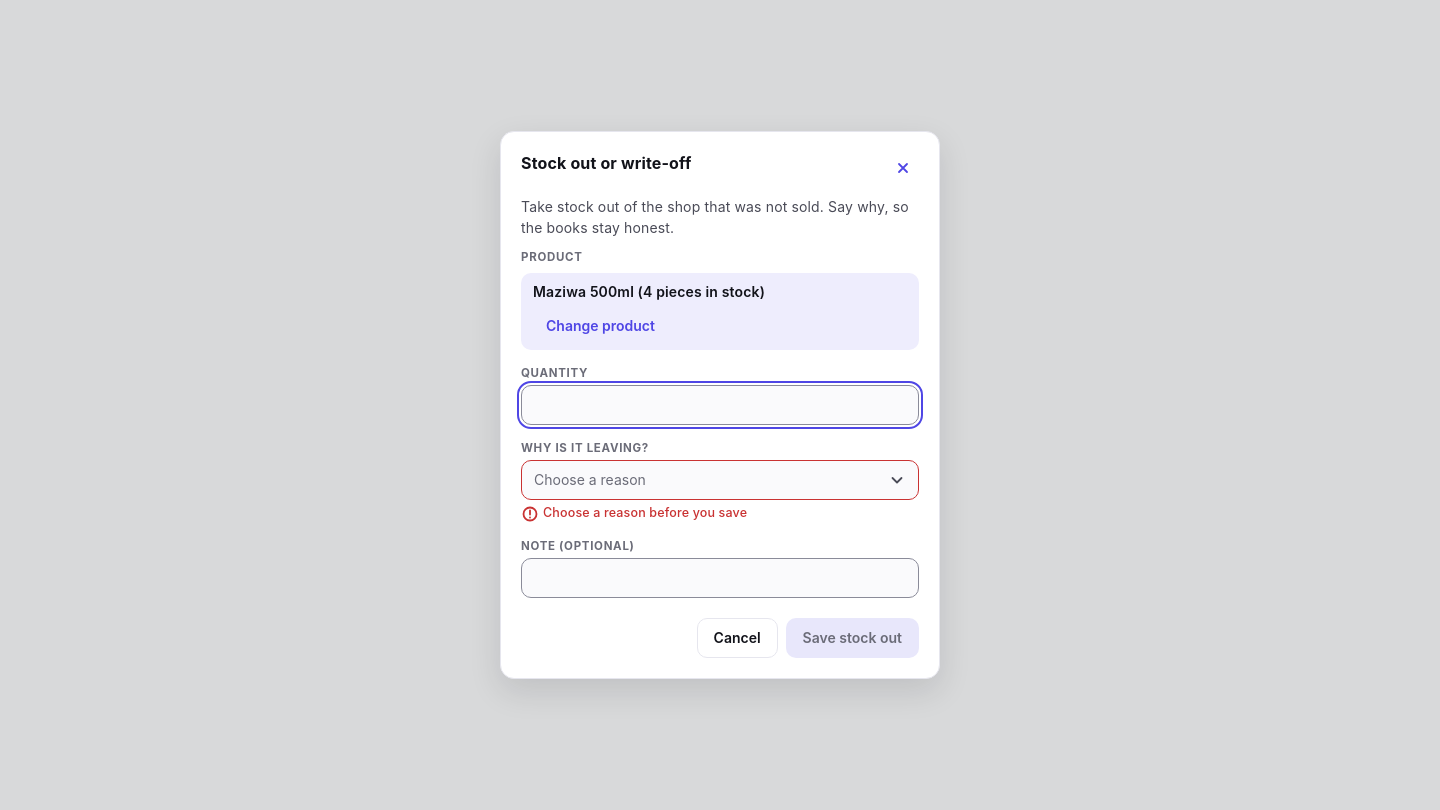
Test case: Stock out or write-off › the Save button is off and the reason box shows its error beside it until a reason is given
Expected: the dialog is shown, 500,131 -> 940,679
Type "1" into the field labelled "Quantity" at (720, 405), box 522,386 -> 918,424
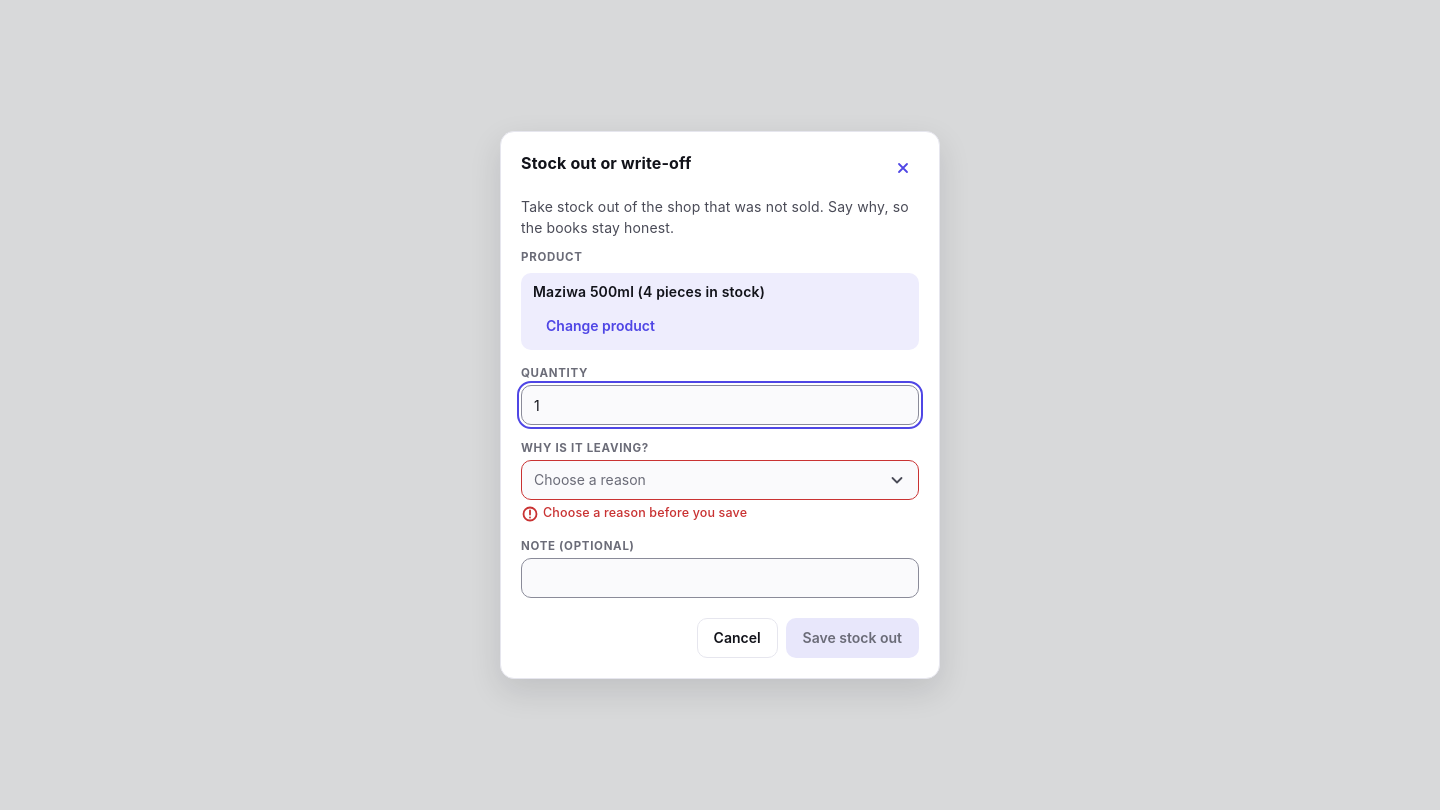
Expected: the button "Save stock out" is disabled, 786,618 -> 919,658
Click the dropdown named "Why is it leaving" at (590, 480), box 521,460 -> 919,500
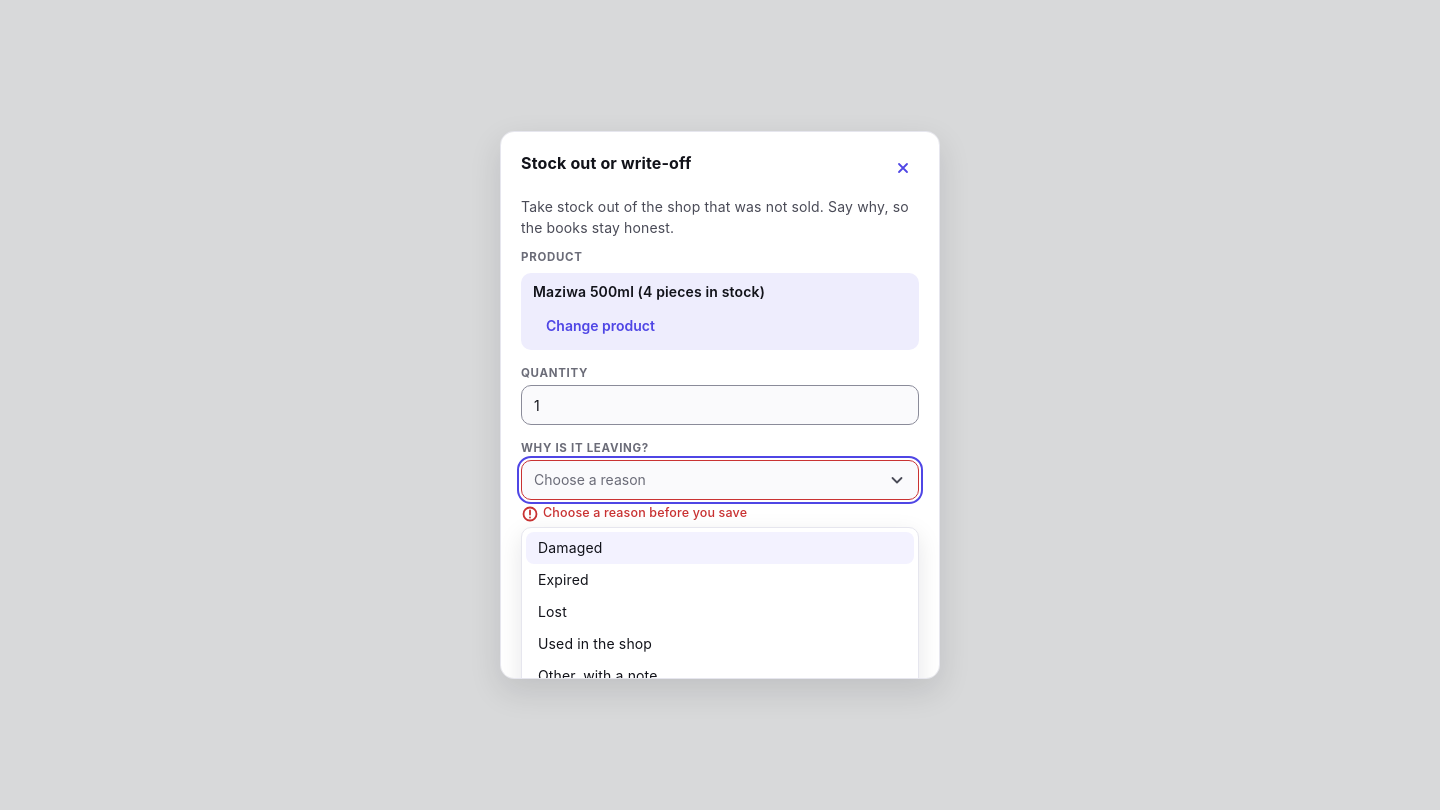
Click the option "Damaged" at (570, 548), box 526,532 -> 914,564
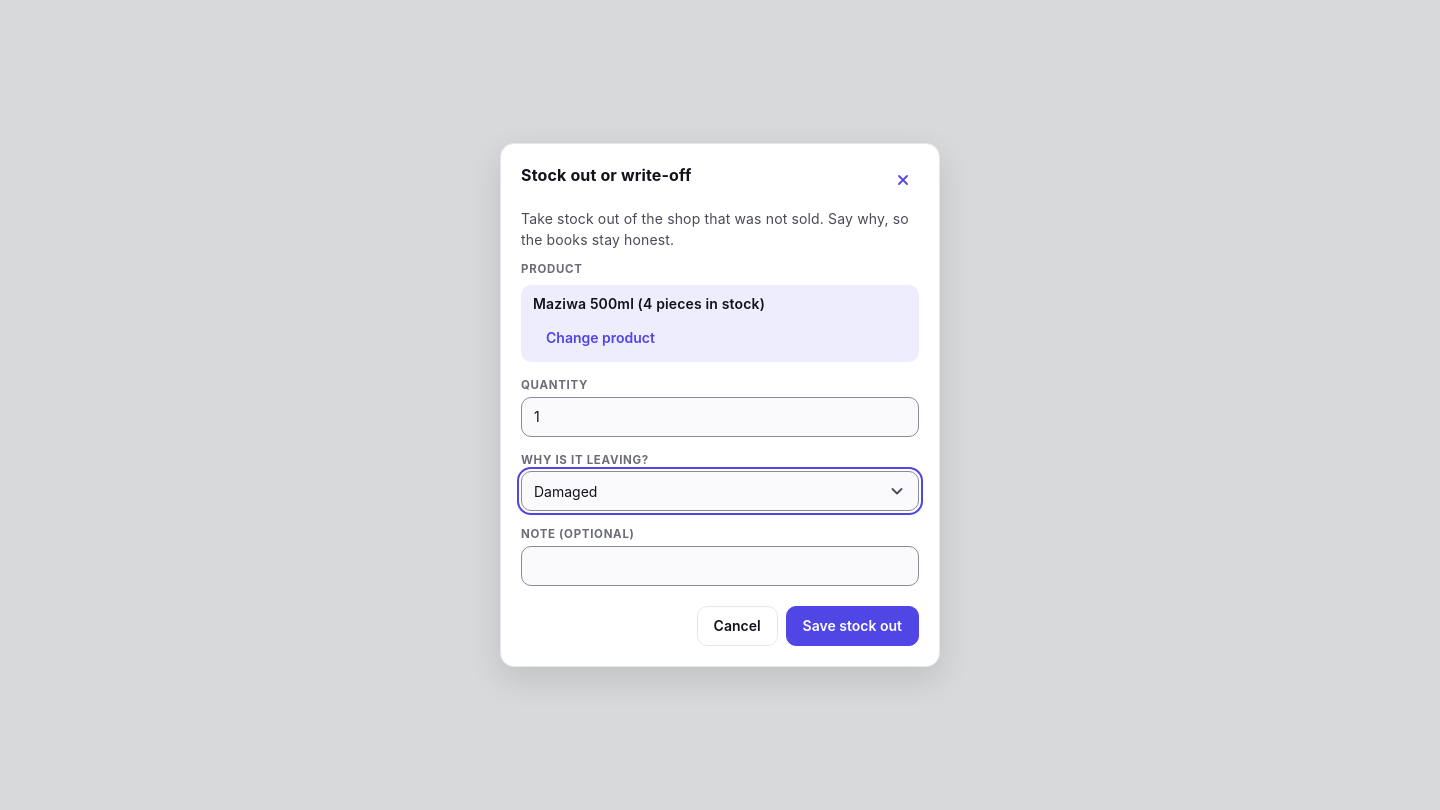
Expected: the text "Choose a reason before you save" is gone
Expected: the button "Save stock out" is enabled, 786,606 -> 919,646
